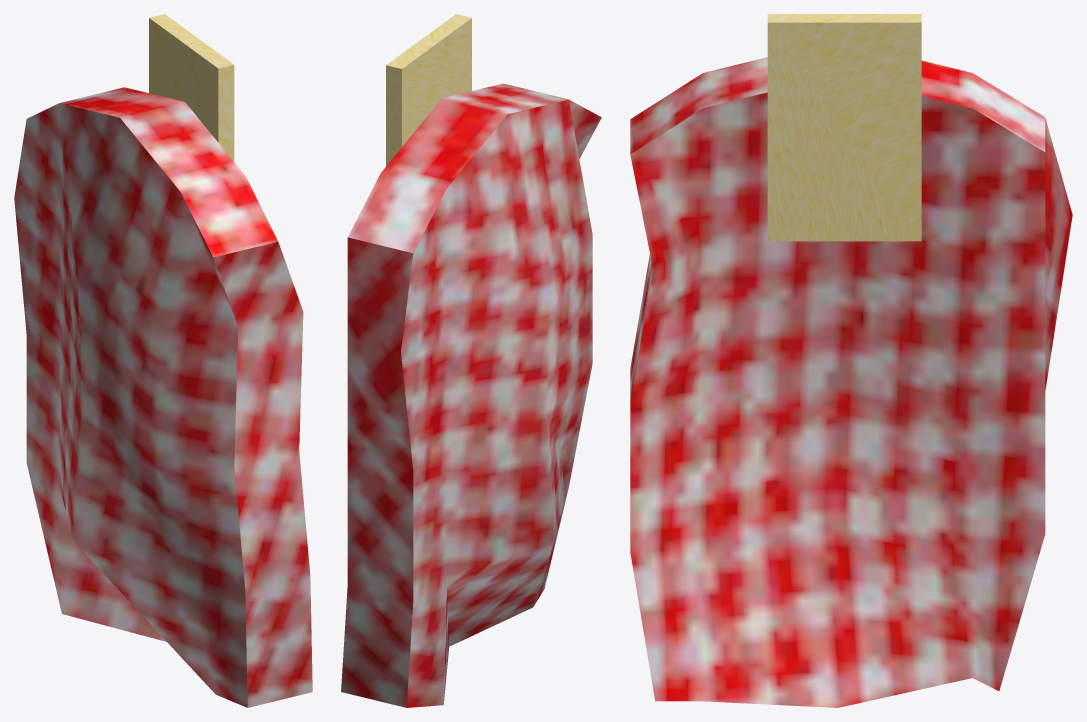
File: tower1.FBX
3 renders of one model, left to right at view 1: azimuth 30°, elevation 25°; view 2: azimuth 150°, elevation 25°; view 3: azimuth 270°, elevation 25°, orthographic. The views are drawn at different scales.
Parts seen in each view (by area): view 1: Box001, Box002; view 2: Box001, Box002; view 3: Box001, Box002.
Part boxes in pixels (bbox=[...]): Box001: bbox=[14, 87, 312, 707]; Box002: bbox=[149, 14, 234, 161]; Box001: bbox=[341, 83, 601, 707]; Box002: bbox=[386, 14, 471, 166]; Box001: bbox=[630, 57, 1072, 707]; Box002: bbox=[767, 14, 921, 241].
Bounding box in the file's own units: 28.96 × 98.03 × 59.23.
3 materials, 3 textured.
